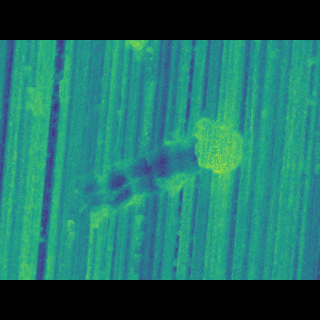Loch: (66, 127, 247, 210)
